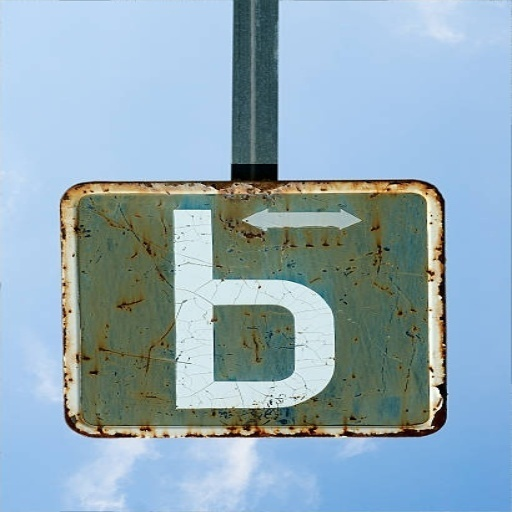Parking: (155, 203, 370, 418)
